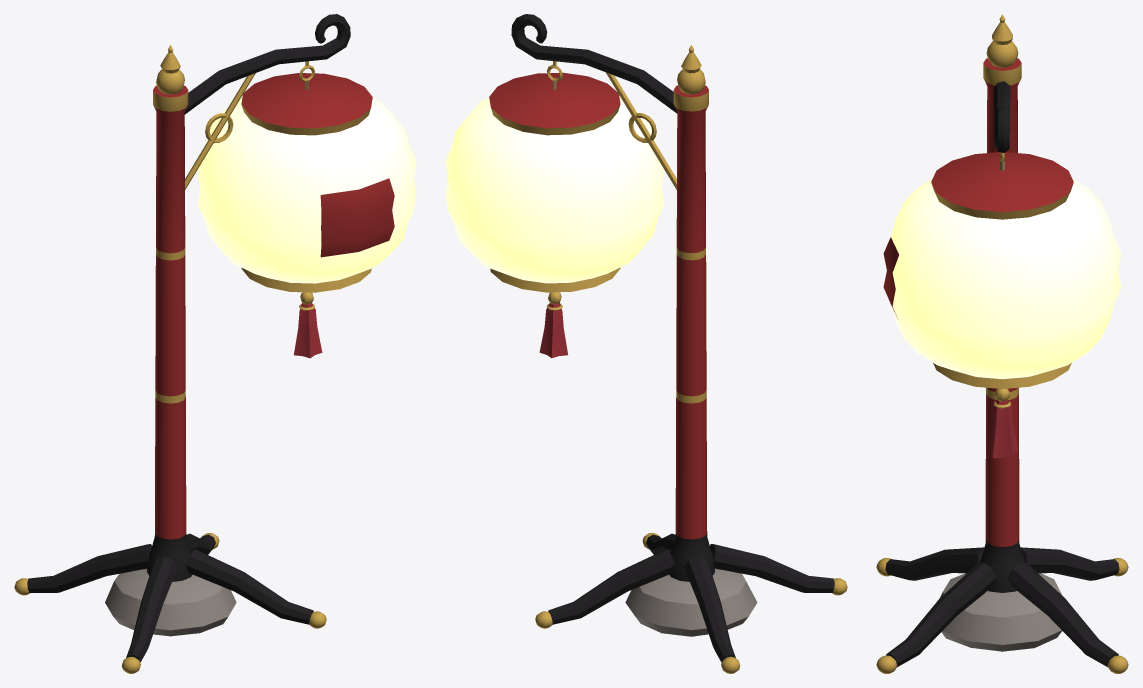
The model's file is deco_lantern_stand.fbx.
3 views of the same model, side by side, from view 1: azimuth 30°, elevation 25°; view 2: azimuth 150°, elevation 25°; view 3: azimuth 270°, elevation 25° (orthographic). The views are drawn at different scales.
Parts seen in each view (by area): view 1: LanternStand_Lantern, LanternStand_Post, LanternStand_Base, LanternStand_Arm, LanternStand_Tassel; view 2: LanternStand_Lantern, LanternStand_Post, LanternStand_Base, LanternStand_Arm, LanternStand_Tassel; view 3: LanternStand_Lantern, LanternStand_Base, LanternStand_Post, LanternStand_Tassel, LanternStand_Arm.
Part boxes in pixels (left/top/right/bottom): LanternStand_Lantern: left=197, top=65, right=416, bottom=292; LanternStand_Post: left=147, top=45, right=192, bottom=581; LanternStand_Base: left=14, top=533, right=326, bottom=673; LanternStand_Arm: left=184, top=14, right=350, bottom=189; LanternStand_Tassel: left=294, top=292, right=322, bottom=358; LanternStand_Lantern: left=445, top=64, right=664, bottom=292; LanternStand_Post: left=669, top=45, right=714, bottom=581; LanternStand_Base: left=535, top=533, right=847, bottom=673; LanternStand_Arm: left=511, top=14, right=677, bottom=189; LanternStand_Tassel: left=539, top=292, right=567, bottom=358; LanternStand_Lantern: left=883, top=152, right=1121, bottom=388; LanternStand_Base: left=876, top=547, right=1128, bottom=673; LanternStand_Post: left=979, top=14, right=1025, bottom=592; LanternStand_Tassel: left=986, top=388, right=1018, bottom=458; LanternStand_Arm: left=993, top=81, right=1010, bottom=152.
Size of the model in its own units: 195 by 317 by 119.
